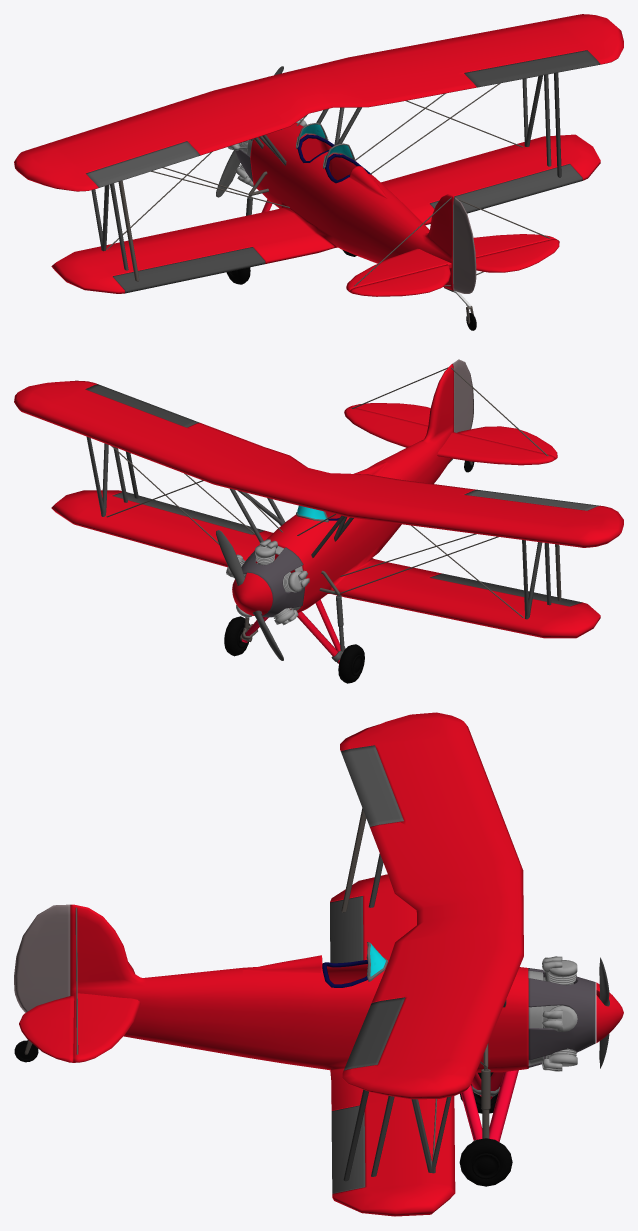
3 views of the same model, one above another, from view 1: azimuth 30°, elevation 25°; view 2: azimuth 150°, elevation 25°; view 3: azimuth 270°, elevation 25° (orthographic). The views are drawn at different scales.
Visible parts, largest first — view 1: Fuselage, TopWing, Elevator, LBotAileron, WingStruts, TailHoriz, RBotAileron, R_TopAileron, L_TopAileron, Rudder, SpanWires, CockpitTrim (+3 smaller); view 2: TopWing, Fuselage, TailHoriz, WingStruts, Elevator, SpanWires, EngCowling1, Engine, Rudder, PropCone, R_TopAileron, RBotAileron (+6 smaller); view 3: TopWing, Fuselage, Rudder, EngCowling1, TailHoriz, L_TopAileron, Elevator, RBotAileron, Engine, R_TopAileron, LBotAileron, RWheel (+3 smaller).
Part boxes in pixels (x1,y1,x2,y2): Fuselage: (51,123,600,293); TopWing: (14,14,623,191); Elevator: (349,239,559,296); LBotAileron: (113,247,265,293); WingStruts: (91,74,551,270); TailHoriz: (346,234,555,291); RBotAileron: (430,164,582,213); R_TopAileron: (464,50,600,87); L_TopAileron: (86,141,200,187); Rudder: (453,197,476,293); SpanWires: (106,83,550,286); CockpitTrim: (297,134,371,183); TopWing: (14,380,623,547); Fuselage: (51,364,600,638); TailHoriz: (344,407,555,465); WingStruts: (86,436,551,619); Elevator: (350,403,557,458); SpanWires: (106,367,548,617); EngCowling1: (241,547,304,617); Engine: (226,539,309,625); Rudder: (452,359,473,432); PropCone: (232,572,272,615); R_TopAileron: (85,384,199,427); RBotAileron: (112,492,264,534); TopWing: (340,712,523,1099); Fuselage: (70,874,528,1216); Rudder: (14,904,70,1012); EngCowling1: (528,968,595,1067); TailHoriz: (73,962,140,1062); L_TopAileron: (341,745,403,826); Elevator: (19,995,74,1062); RBotAileron: (331,1105,365,1193); Engine: (542,956,577,1071); R_TopAileron: (343,997,405,1070); LBotAileron: (330,896,363,963); RWheel: (459,1138,512,1186).
Size of the model in its own units: 8.14 by 2.54 by 5.53.
